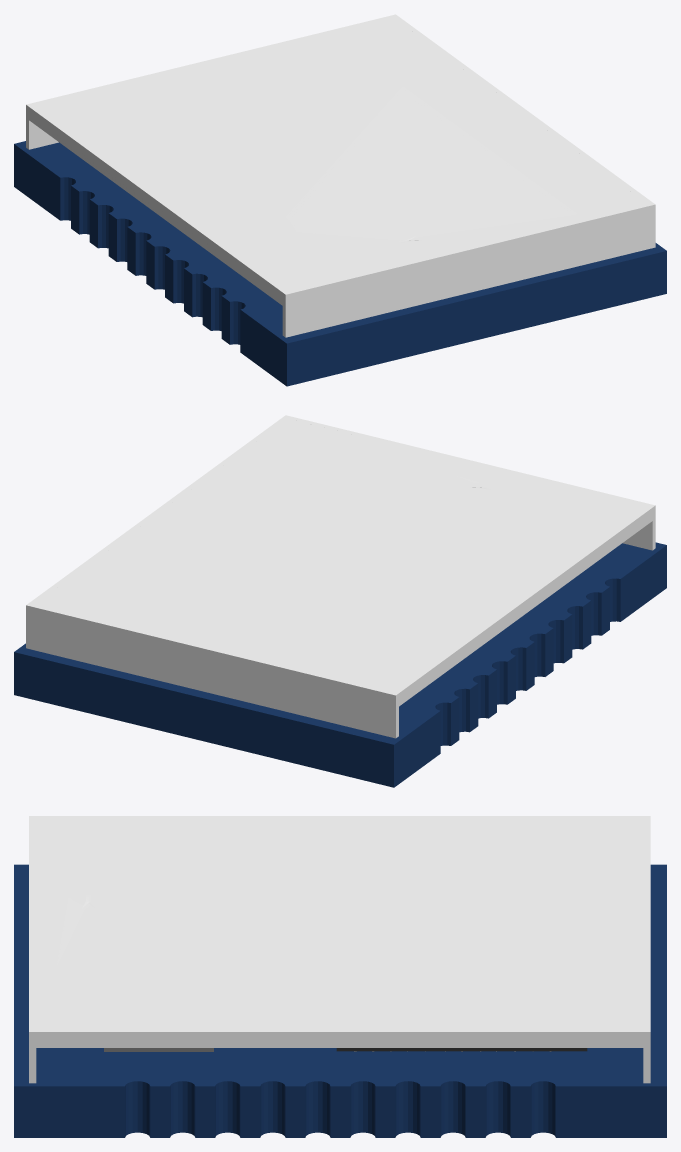
File: sfe-im19.glb
3 renders of one model, top to bottom at view 1: azimuth 30°, elevation 25°; view 2: azimuth 150°, elevation 25°; view 3: azimuth 270°, elevation 25°, orthographic. The views are drawn at different scales.
Visible parts, largest first — view 1: 1_1_1_0.85, 0_0_0.16666666666666666_0; view 2: 1_1_1_0.85, 0_0_0.16666666666666666_0; view 3: 1_1_1_0.85, 0_0_0.16666666666666666_0, 0_0_0_0.
Part boxes in pixels (left/top/right/bottom): 1_1_1_0.85: left=26, top=14, right=655, bottom=337; 0_0_0.16666666666666666_0: left=14, top=141, right=666, bottom=386; 1_1_1_0.85: left=26, top=415, right=655, bottom=738; 0_0_0.16666666666666666_0: left=14, top=542, right=666, bottom=787; 1_1_1_0.85: left=29, top=816, right=650, bottom=1083; 0_0_0.16666666666666666_0: left=14, top=864, right=666, bottom=1137; 0_0_0_0: left=336, top=1048, right=587, bottom=1051.
Bounding box in the file's own units: 1.48 × 0.3199 × 1.84.
